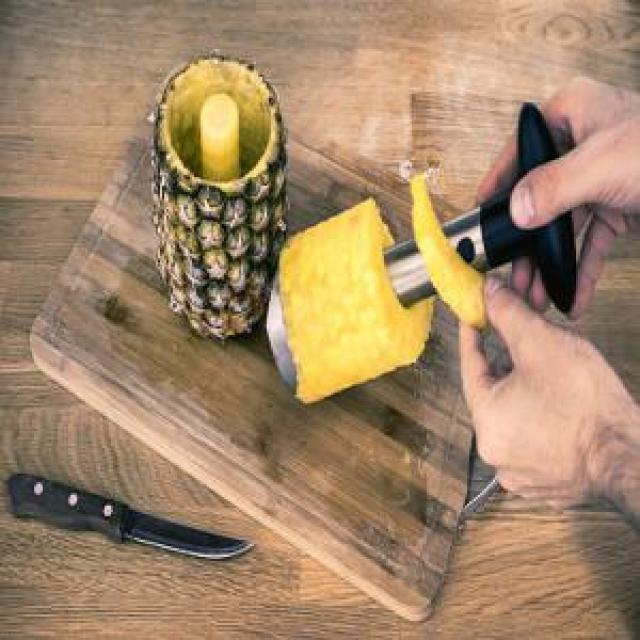knife: (4, 472, 255, 563)
